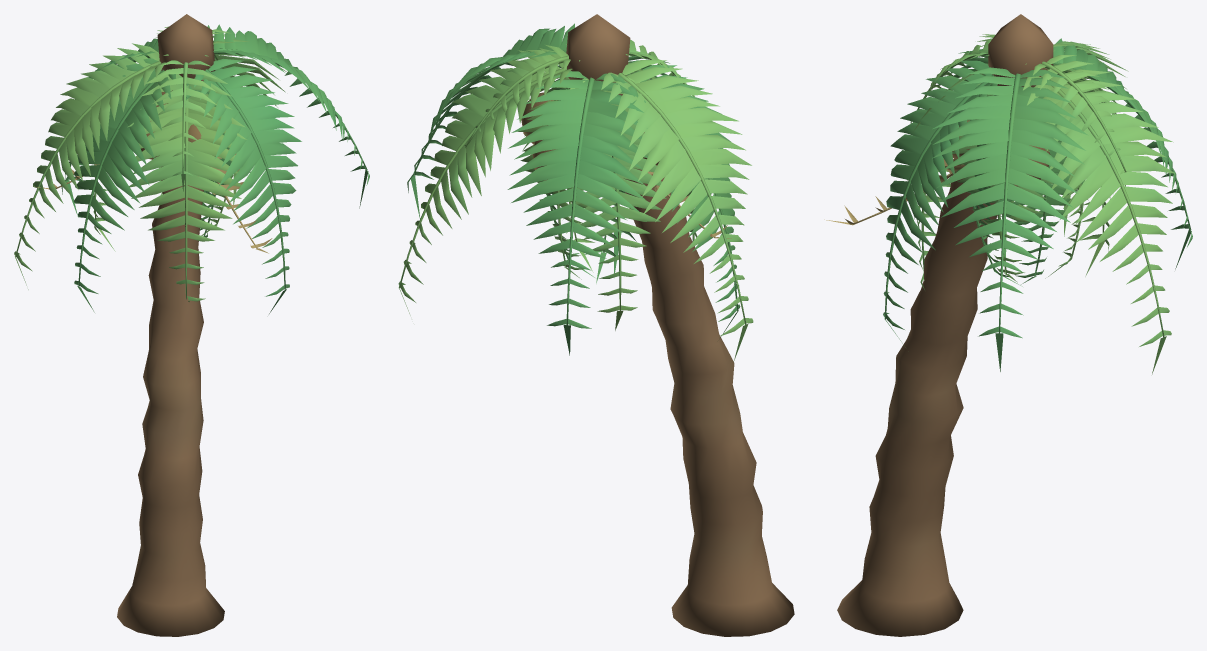
File: palm_c.0e80a3d6.glb
3 views of the same model, side by side, from view 1: azimuth 30°, elevation 25°; view 2: azimuth 150°, elevation 25°; view 3: azimuth 270°, elevation 25° (orthographic). The views are drawn at different scales.
Parts seen in each view (by area): view 1: palm_c; view 2: palm_c; view 3: palm_c.
Part boxes in pixels (x1,y1,x2,y2): palm_c: (14,14,369,636); palm_c: (398,14,794,636); palm_c: (824,14,1192,636).
Size of the model in its own units: 3.41 by 5.5 by 2.9.
